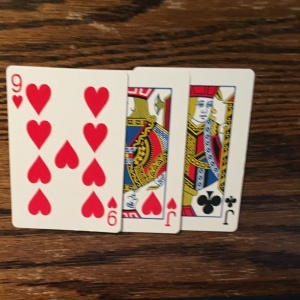card: (7, 64, 125, 233), (182, 67, 256, 233), (120, 69, 186, 235)
